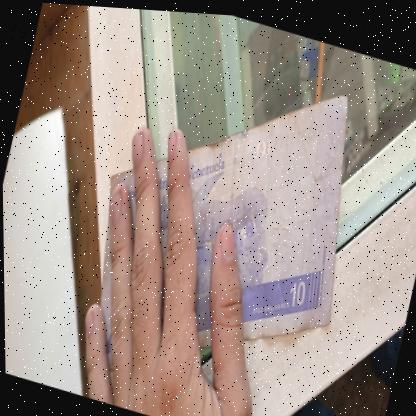ten-back-vef: (66, 29, 380, 416)
